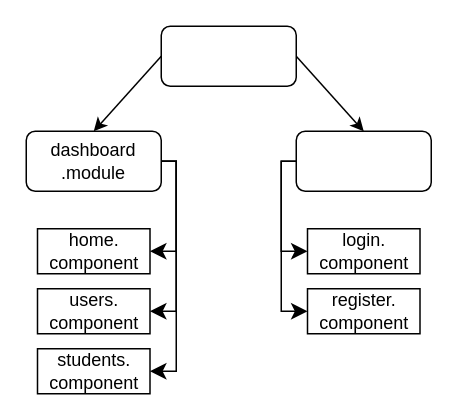
Some shapes in this 458 by 420 pixel diagram are drawn without their labels. Here are the shapes that lost their labels. From the top down, the box of each, then its label:
(160, 25, 296, 86): app.module
(295, 130, 431, 191): auth .module
